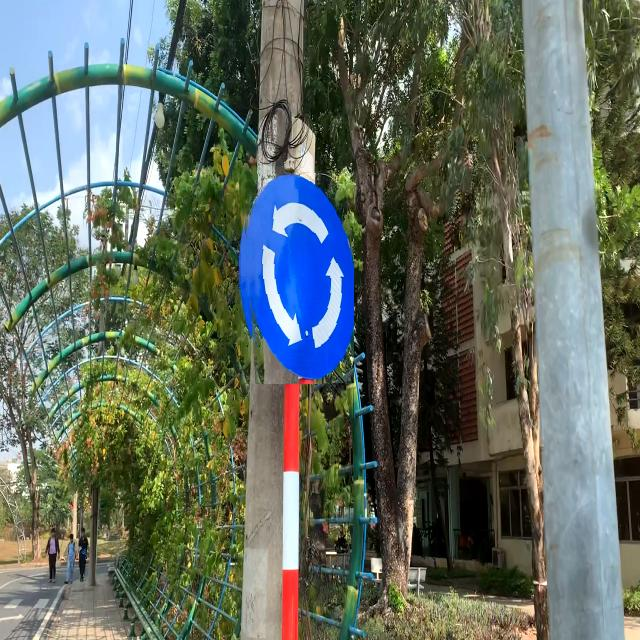Nơi giao nhau chạy theo vòng xuyến: (241, 166, 354, 384)
